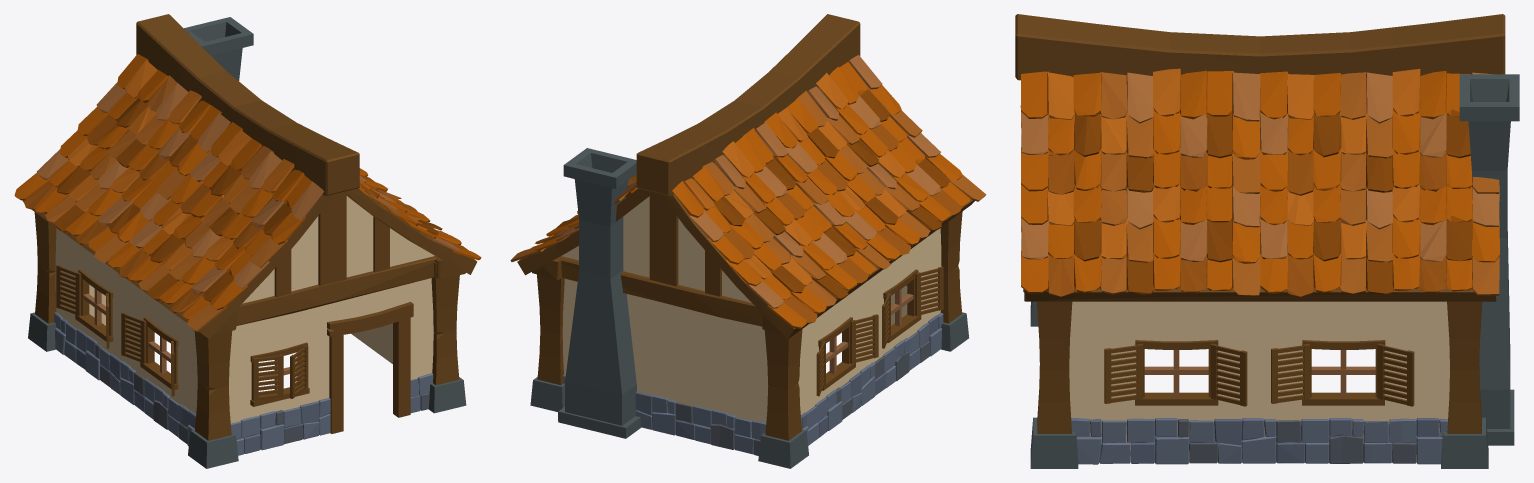
The model's file is House_07.glb.
3 renders of one model, left to right at view 1: azimuth 30°, elevation 25°; view 2: azimuth 150°, elevation 25°; view 3: azimuth 270°, elevation 25°, orthographic. The views are drawn at different scales.
Visible parts, largest first — view 1: House_07; view 2: House_07; view 3: House_07.
Part boxes in pixels (bbox=[...]): House_07: bbox=[14, 14, 481, 468]; House_07: bbox=[510, 14, 986, 468]; House_07: bbox=[1015, 14, 1519, 468].
Size of the model in its own units: 5.87 by 5.47 by 6.84.
1 material, 1 textured.
